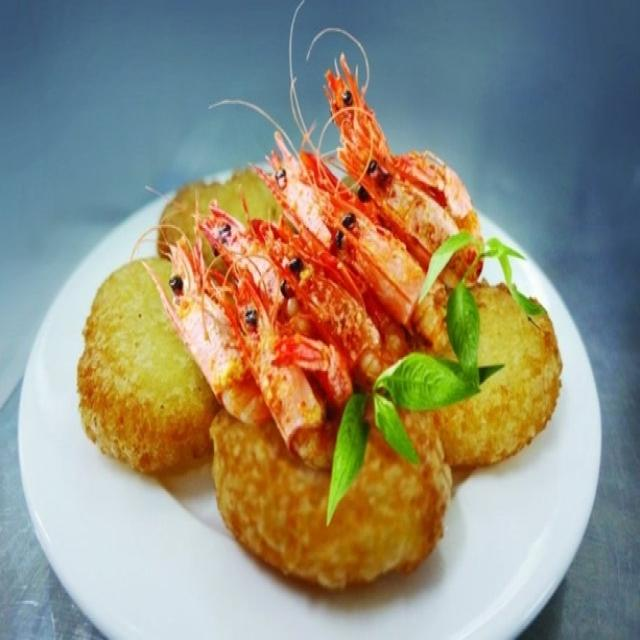炸货点心: (22, 55, 605, 631)
熟制海鲜: (22, 55, 605, 631)
